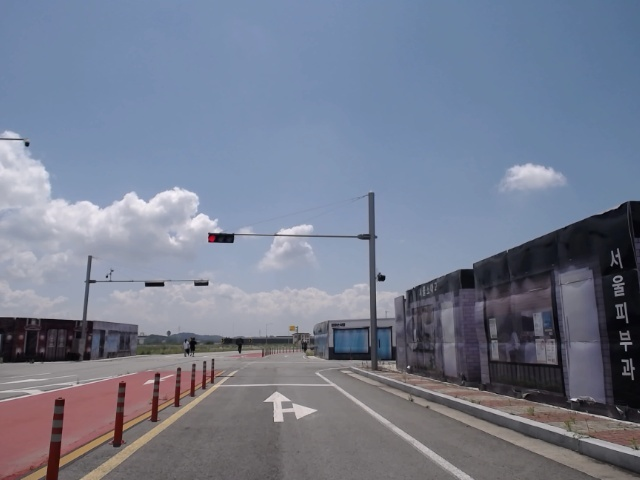red_3: (206, 232, 236, 243)
